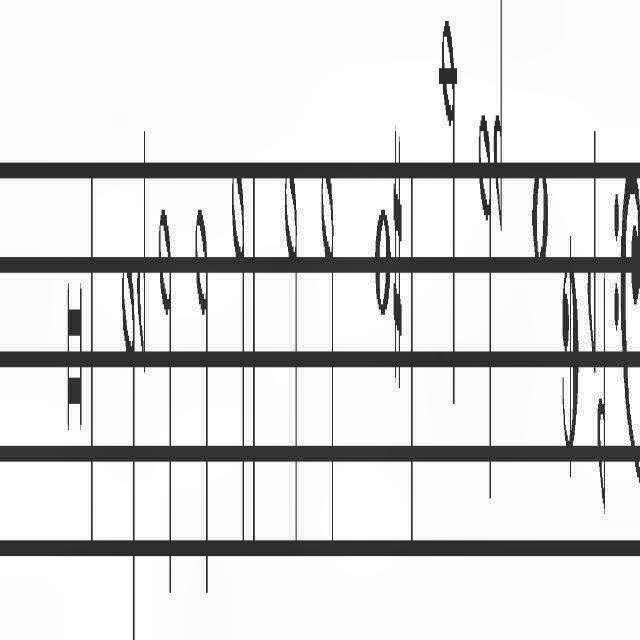Bemol: (597, 263, 607, 529), (494, 0, 504, 236), (138, 119, 146, 378), (588, 116, 596, 372)
Diez: (392, 132, 402, 394)
Full-note: (374, 201, 392, 323), (531, 158, 549, 270)
Half-note: (194, 201, 210, 611), (156, 201, 172, 611), (478, 93, 492, 519), (442, 7, 456, 430), (321, 148, 335, 562), (284, 155, 298, 565), (231, 158, 245, 562), (121, 240, 135, 640)
